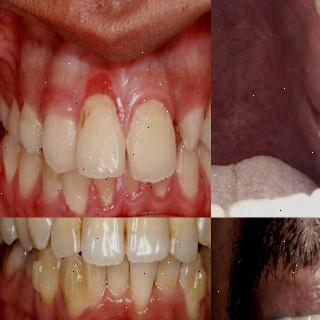Gum Swelling: (84, 173, 182, 218), (123, 86, 207, 137), (92, 286, 134, 316), (80, 75, 112, 107)
cavities: (0, 120, 10, 146)
maligned: (183, 254, 210, 320), (61, 253, 88, 317), (130, 251, 156, 315), (13, 217, 33, 257), (197, 218, 211, 252)
plaque: (78, 91, 126, 176), (129, 96, 172, 182), (19, 101, 43, 149), (62, 177, 87, 217), (42, 164, 62, 208), (205, 91, 211, 147), (0, 89, 7, 121)
